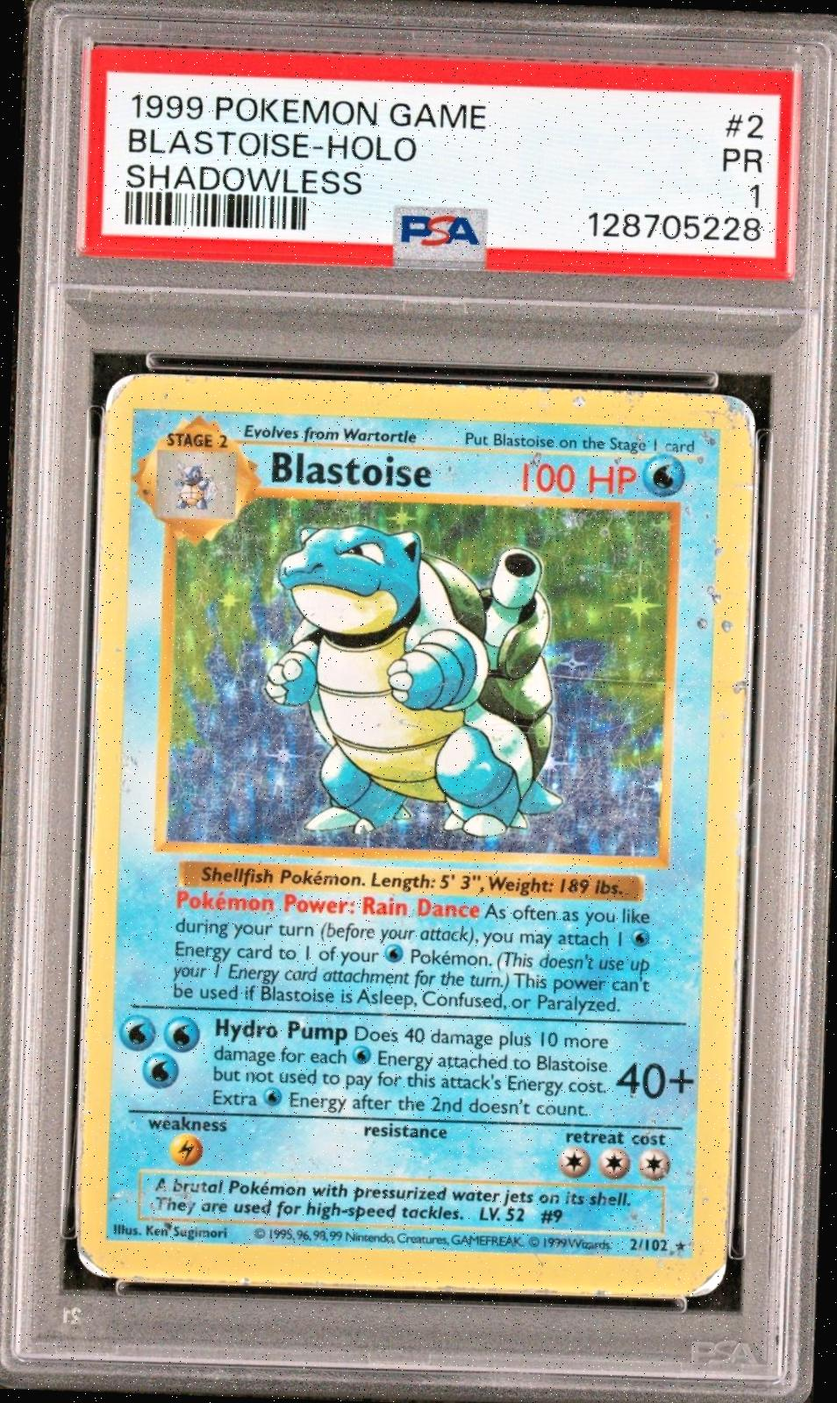card-2UtV: (76, 372, 755, 1298)
